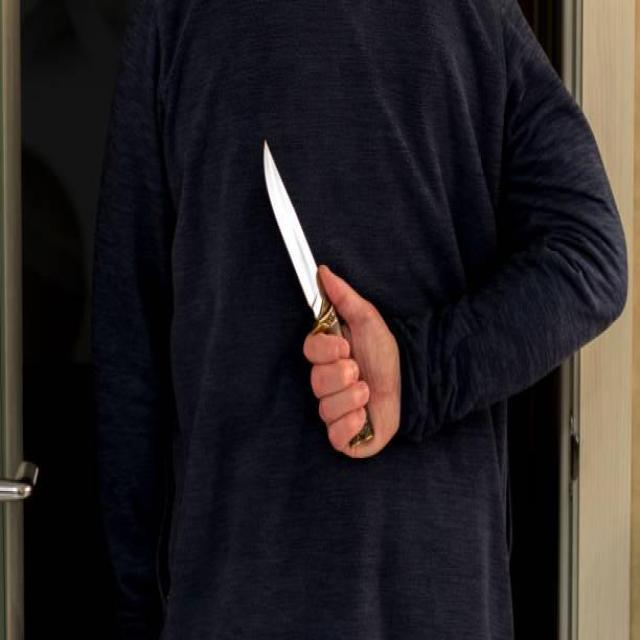faca: (258, 134, 403, 468)
